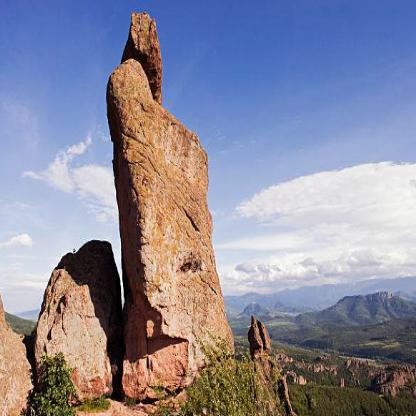Sedimentary_Sandstone: (97, 57, 245, 384), (33, 240, 127, 353), (111, 5, 185, 96)
